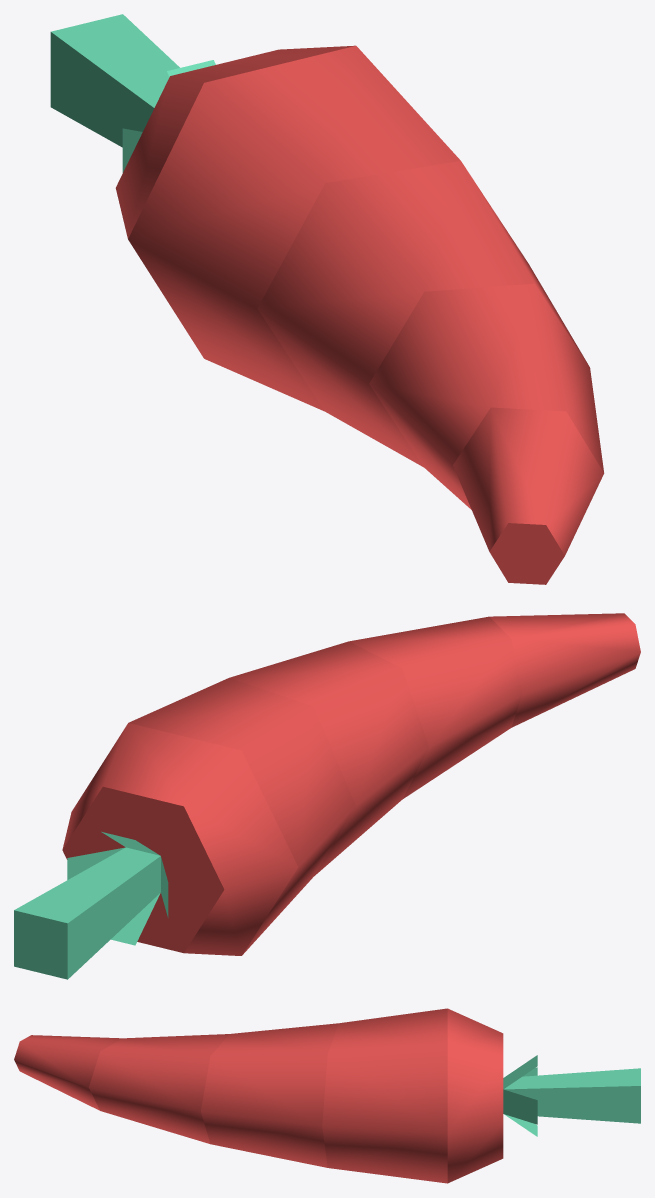
Rendered from chili.gltf.
The picture shows the model from 3 angles, top to bottom: view 1: azimuth 30°, elevation 25°; view 2: azimuth 150°, elevation 25°; view 3: azimuth 270°, elevation 25°; orthographic projection. The views are drawn at different scales.
Visible parts, largest first — view 1: pepper; view 2: pepper; view 3: pepper.
Part boxes in pixels (x1,y1,x2,y2): pepper: [50, 14, 604, 584]; pepper: [14, 613, 640, 979]; pepper: [14, 1008, 640, 1183].
Bounding box in the file's own units: 0.1039 × 0.0775 × 0.3191.
